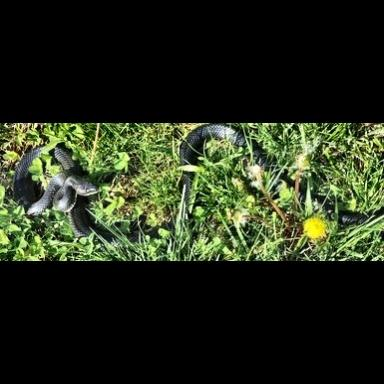snake: (7, 123, 384, 256)
